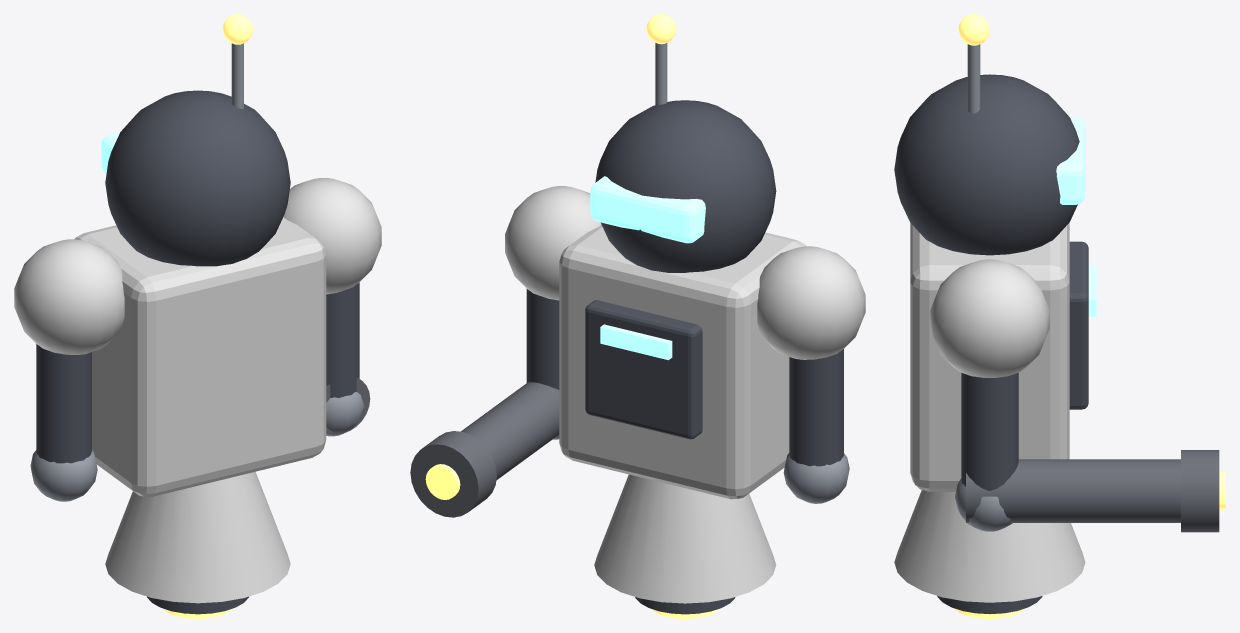
The model's file is droid.glb.
3 views of the same model, side by side, from view 1: azimuth 30°, elevation 25°; view 2: azimuth 150°, elevation 25°; view 3: azimuth 270°, elevation 25° (orthographic). The views are drawn at different scales.
Visible parts, largest first — view 1: Cube, Sphere, Cone, Sphere.002, Sphere.004, Cylinder.001, Cylinder.002, Sphere.003, Sphere.005, Cylinder.006, Cylinder, Sphere.001; view 2: Cube, Sphere, Cone, Cube.001, Sphere.002, Sphere.004, Cylinder.001, Cylinder.003, Cylinder.004, Cube.003, Cylinder.002, Sphere.003 (+5 smaller); view 3: Sphere, Cube, Cone, Cylinder.003, Sphere.004, Cylinder.002, Cube.001, Cylinder.004, Cube.003, Sphere.005, Cylinder.006, Cylinder (+2 smaller).
Part boxes in pixels (x1,y1,x2,y2): Cube: (74, 217, 326, 496); Sphere: (105, 90, 290, 266); Cone: (105, 471, 290, 603); Sphere.002: (14, 239, 124, 354); Sphere.004: (283, 178, 381, 294); Cylinder.001: (36, 344, 91, 463); Cylinder.002: (326, 282, 359, 397); Sphere.003: (30, 450, 97, 501); Sphere.005: (326, 392, 364, 436); Cylinder.006: (147, 596, 248, 614); Cylinder: (231, 43, 243, 108); Sphere.001: (222, 14, 253, 44); Cube: (559, 224, 806, 499); Sphere: (595, 100, 776, 272); Cone: (594, 474, 776, 603); Cube.001: (585, 300, 702, 439); Sphere.002: (757, 246, 865, 359); Sphere.004: (505, 186, 601, 300); Cylinder.001: (789, 349, 843, 466); Cylinder.003: (461, 382, 559, 480); Cylinder.004: (410, 431, 496, 517); Cube.003: (590, 176, 705, 243); Cylinder.002: (526, 289, 559, 389); Sphere.003: (783, 453, 849, 503); Sphere: (894, 74, 1079, 255); Cube: (910, 222, 1069, 491); Cone: (894, 490, 1085, 602); Cylinder.003: (966, 459, 1180, 522); Sphere.004: (930, 259, 1049, 377); Cylinder.002: (961, 372, 1018, 490); Cube.001: (1069, 241, 1088, 409); Cylinder.004: (1181, 450, 1219, 532); Cube.003: (1056, 117, 1085, 204); Sphere.005: (955, 478, 1012, 531); Cylinder.006: (937, 596, 1042, 613); Cylinder: (967, 44, 980, 113).
Size of the model in its own units: 1.31 by 2.09 by 1.04.
